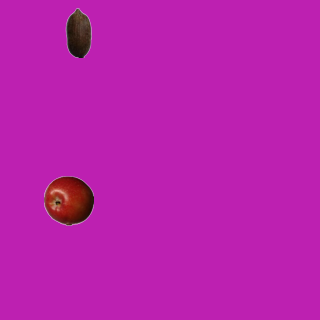Apple Braeburn: (43, 175, 93, 225)
Nut Pecan: (53, 7, 103, 57)
